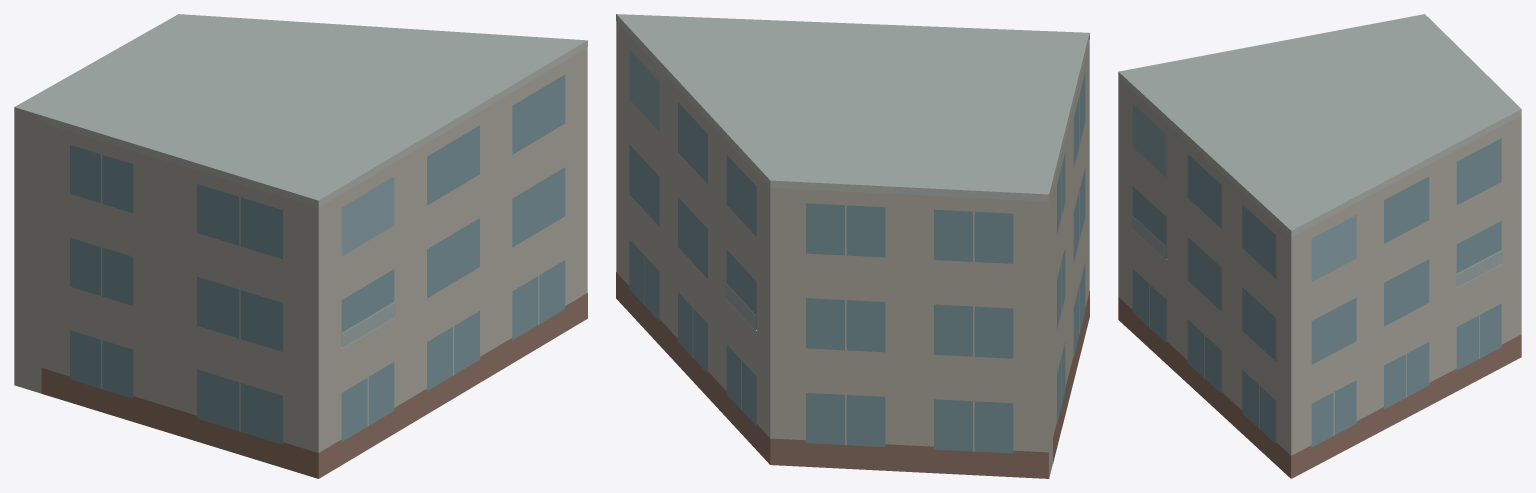
File: survey-upis-32469796.glb
The picture shows the model from 3 angles, left to right: view 1: azimuth 30°, elevation 25°; view 2: azimuth 150°, elevation 25°; view 3: azimuth 270°, elevation 25°; orthographic projection. The views are drawn at different scales.
Parts seen in each view (by area): view 1: survey-upis-32469796.tmp; view 2: survey-upis-32469796.tmp; view 3: survey-upis-32469796.tmp.
Part boxes in pixels (x1,y1,x2,y2): survey-upis-32469796.tmp: [14, 14, 587, 478]; survey-upis-32469796.tmp: [616, 14, 1089, 478]; survey-upis-32469796.tmp: [1118, 14, 1521, 478].
Size of the model in its own units: 17.91 by 9.55 by 14.08.
